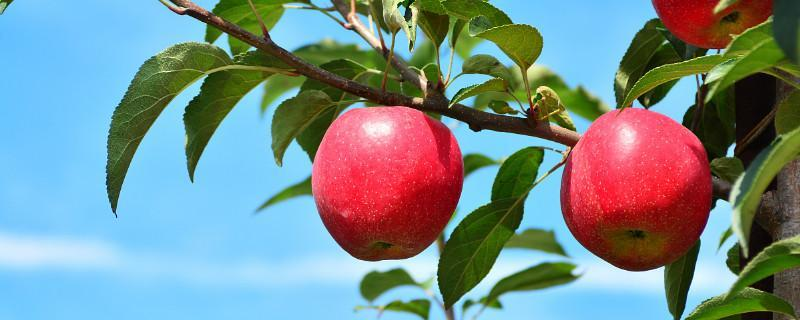apple: (559, 110, 714, 276), (312, 104, 464, 264)
